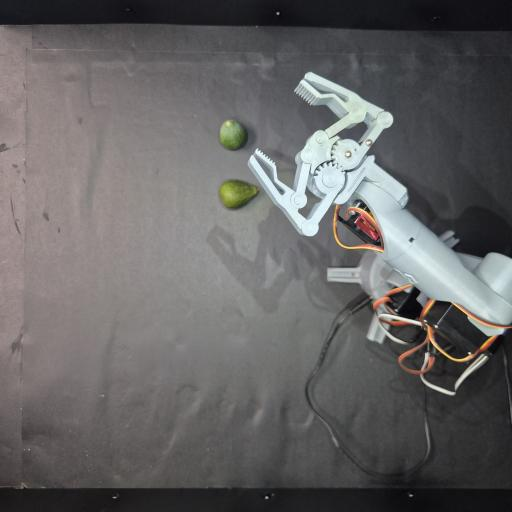higo: (219, 180, 259, 208), (219, 120, 247, 150)
